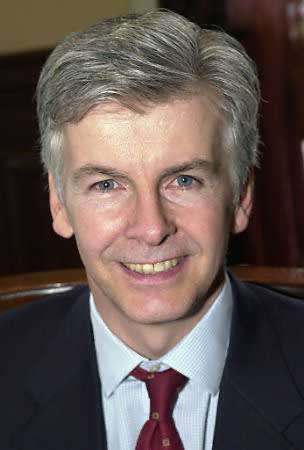Face: (42, 139, 235, 335)
